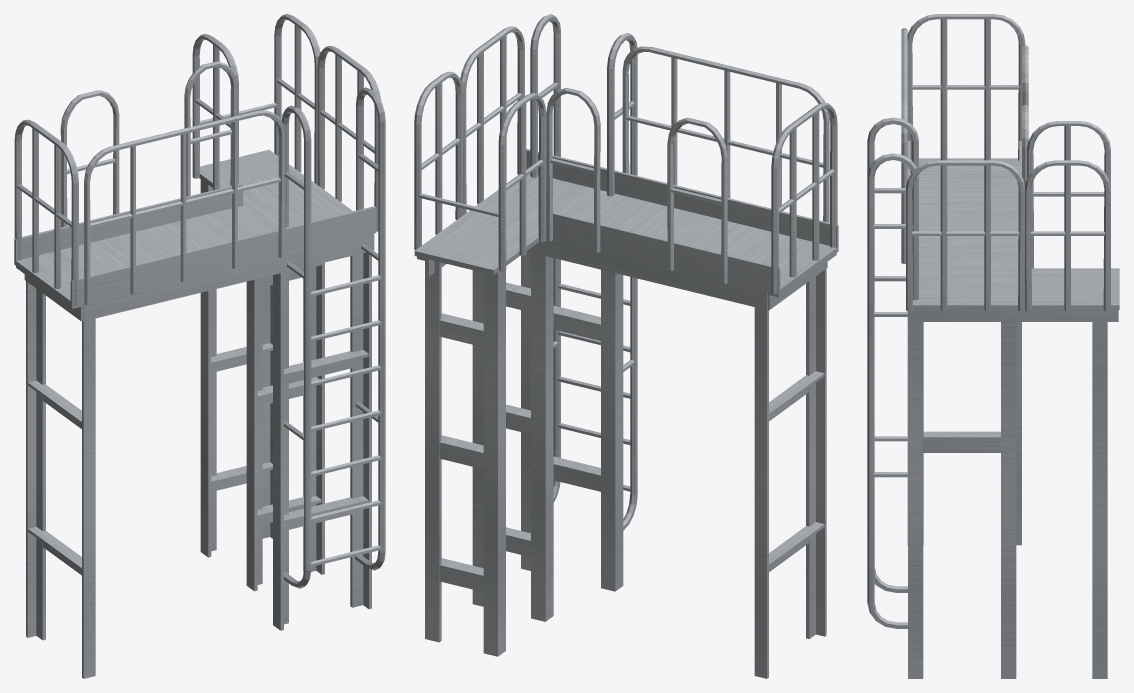
3 views of the same model, side by side, from view 1: azimuth 30°, elevation 25°; view 2: azimuth 150°, elevation 25°; view 3: azimuth 270°, elevation 25° (orthographic). The views are drawn at different scales.
Parts seen in each view (by area): view 1: obj_050; view 2: obj_050; view 3: obj_050.
Boxes of the visible parts, x1,y1,x2,y2 form: obj_050: (14, 14, 385, 678); obj_050: (414, 14, 838, 678); obj_050: (867, 14, 1119, 678).
Bounding box in the file's own units: 243 × 396 × 173.
